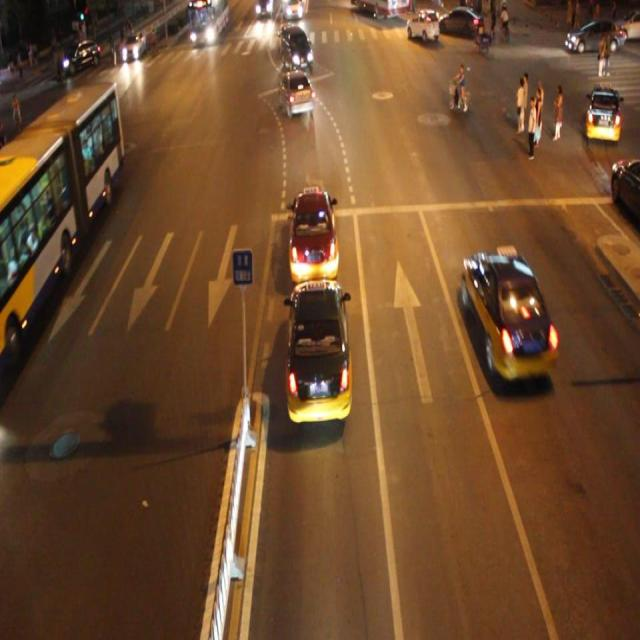car: (462, 252, 557, 380), (285, 276, 352, 420), (287, 188, 339, 284), (279, 70, 314, 117), (280, 28, 314, 75)
van: (1, 83, 124, 369)
